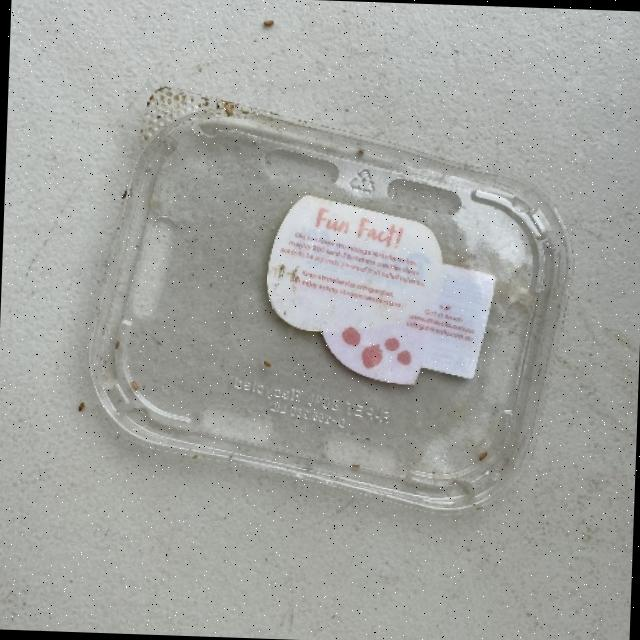plastic: (83, 86, 576, 516)
